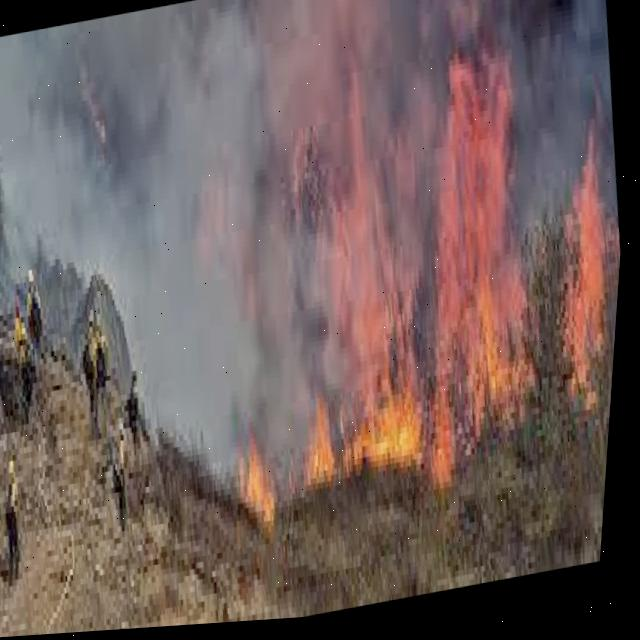smoke: (0, 0, 620, 476)
